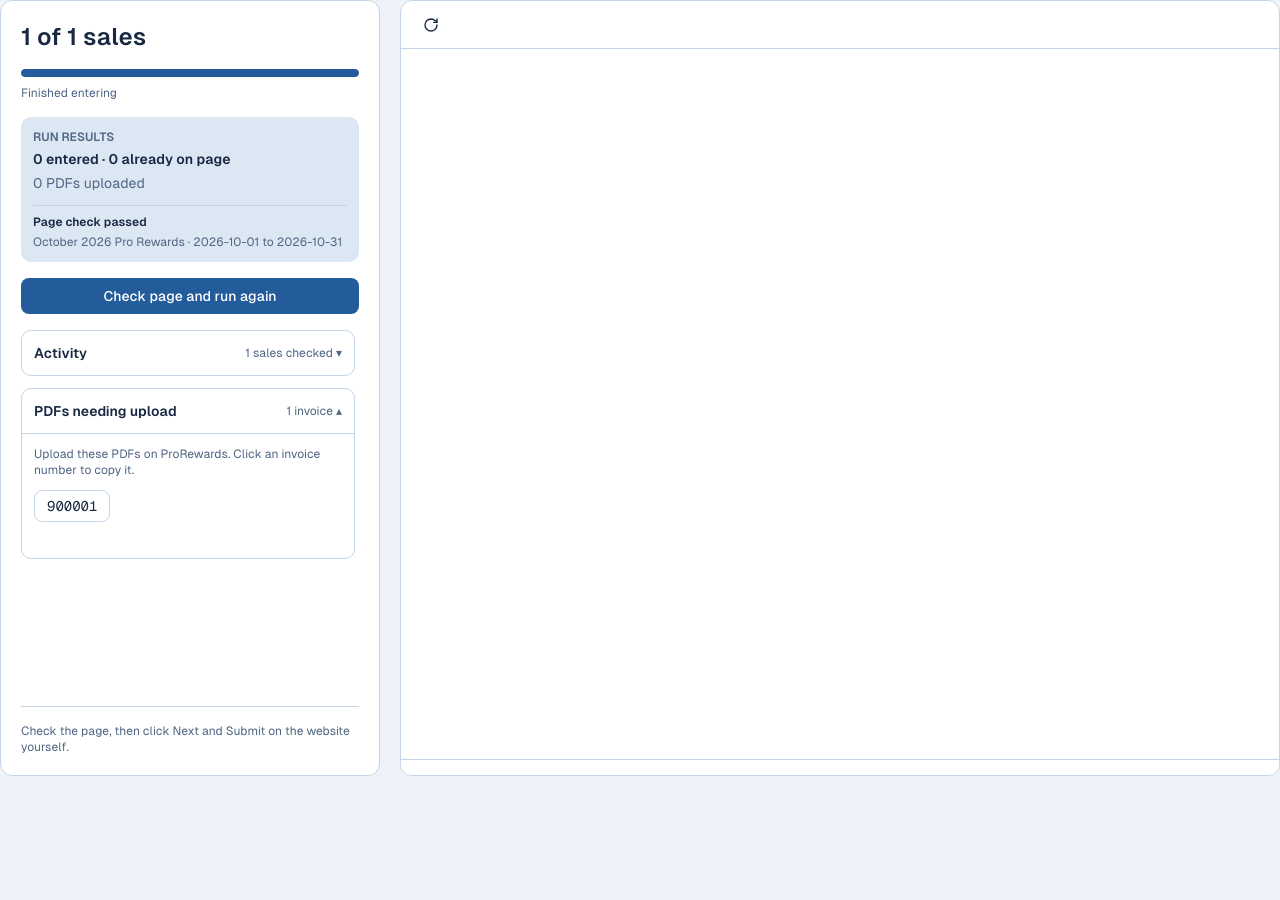
Test case: keeps failure details and page check available without repeating PDF warnings
Expected: the text "Page check passed" is shown, [33,215,147,229]
Expected: the button "PDFs needing upload 1 invoice ▴" is shown, [22,389,354,433]
Click the button "Activity 1 sales checked ▾": [61, 353] box [22,331,354,375]
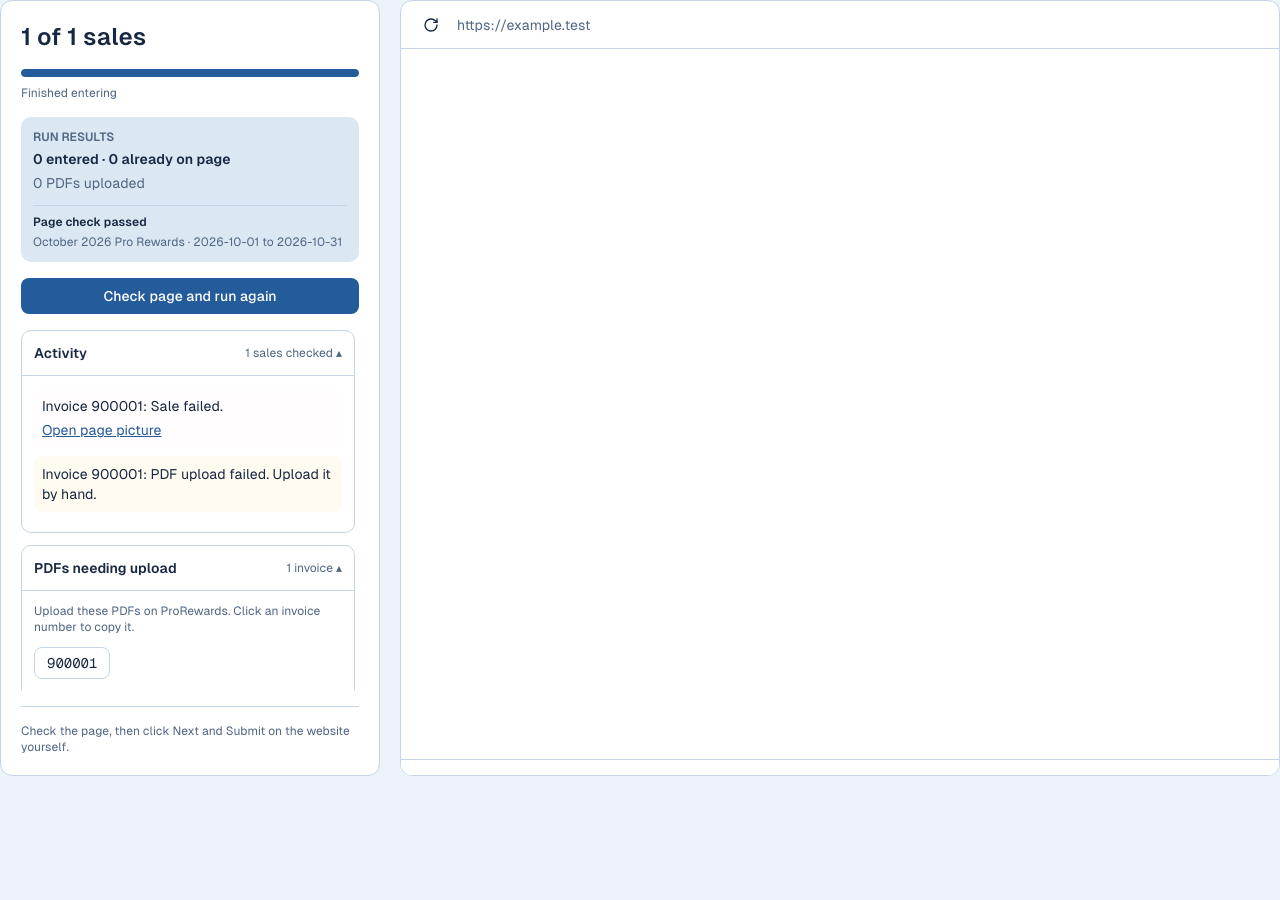
Expected: the text "Invoice 900001: Sale failed." is shown, [34,388,342,448]
Expected: the button "Open page picture" is shown, [42,420,162,440]
Expected: the text "Invoice 900001: PDF upload failed. Upload it by hand." is shown, [34,456,342,512]
